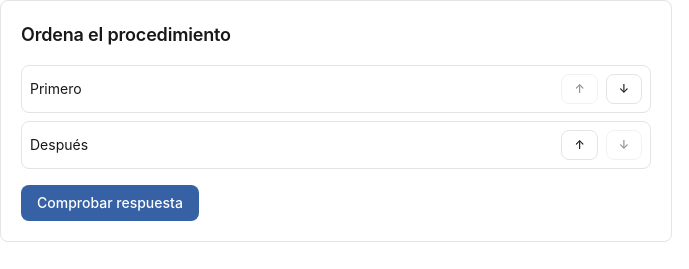
Test case: LearningExperience › evaluates an authored activity directly when it has no separate binding
Click the button "Comprobar respuesta" at [110, 203], box [21, 185, 199, 221]
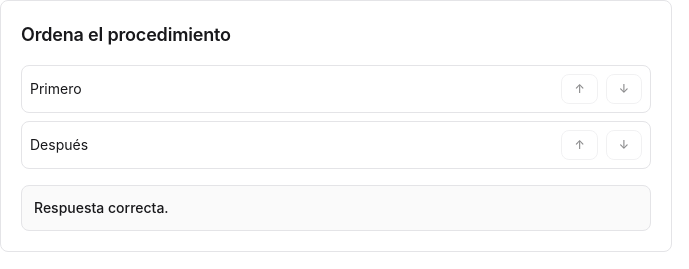
Check: the text "Respuesta correcta." is shown, box [34, 199, 169, 216]
